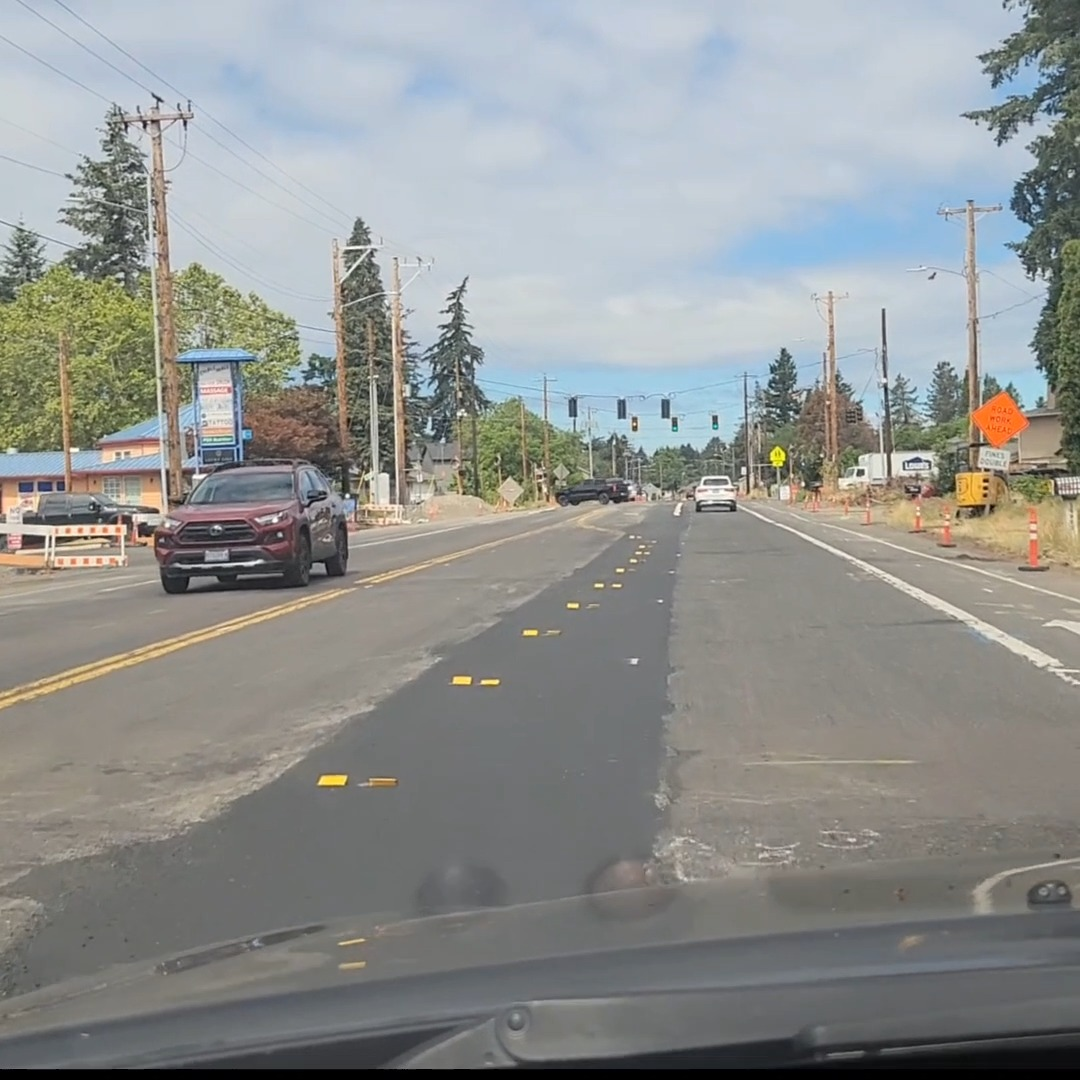car: (153, 458, 349, 592), (3, 491, 160, 546), (553, 477, 634, 506), (693, 475, 738, 512)
crosswalk-sign: (769, 446, 786, 466)
delineator: (1017, 508, 1050, 571), (934, 504, 957, 548), (907, 495, 926, 532), (861, 491, 875, 525), (805, 491, 820, 511), (840, 492, 850, 515)
